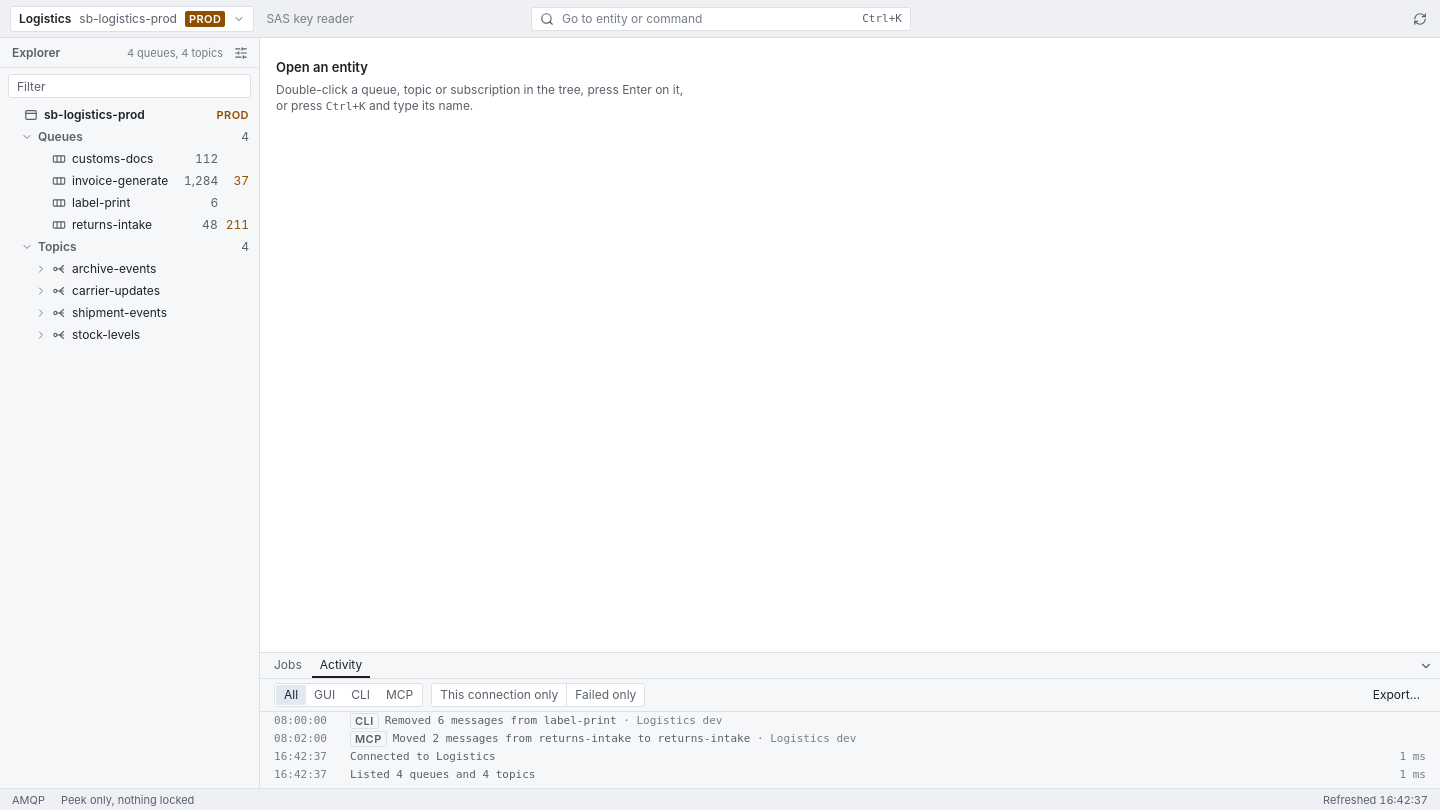
Test: palette › echoes the query when nothing matches
Expected: the element named "Namespace" is shown, [21,107,249,342]
Type keys "{Control>}k{/Control}"
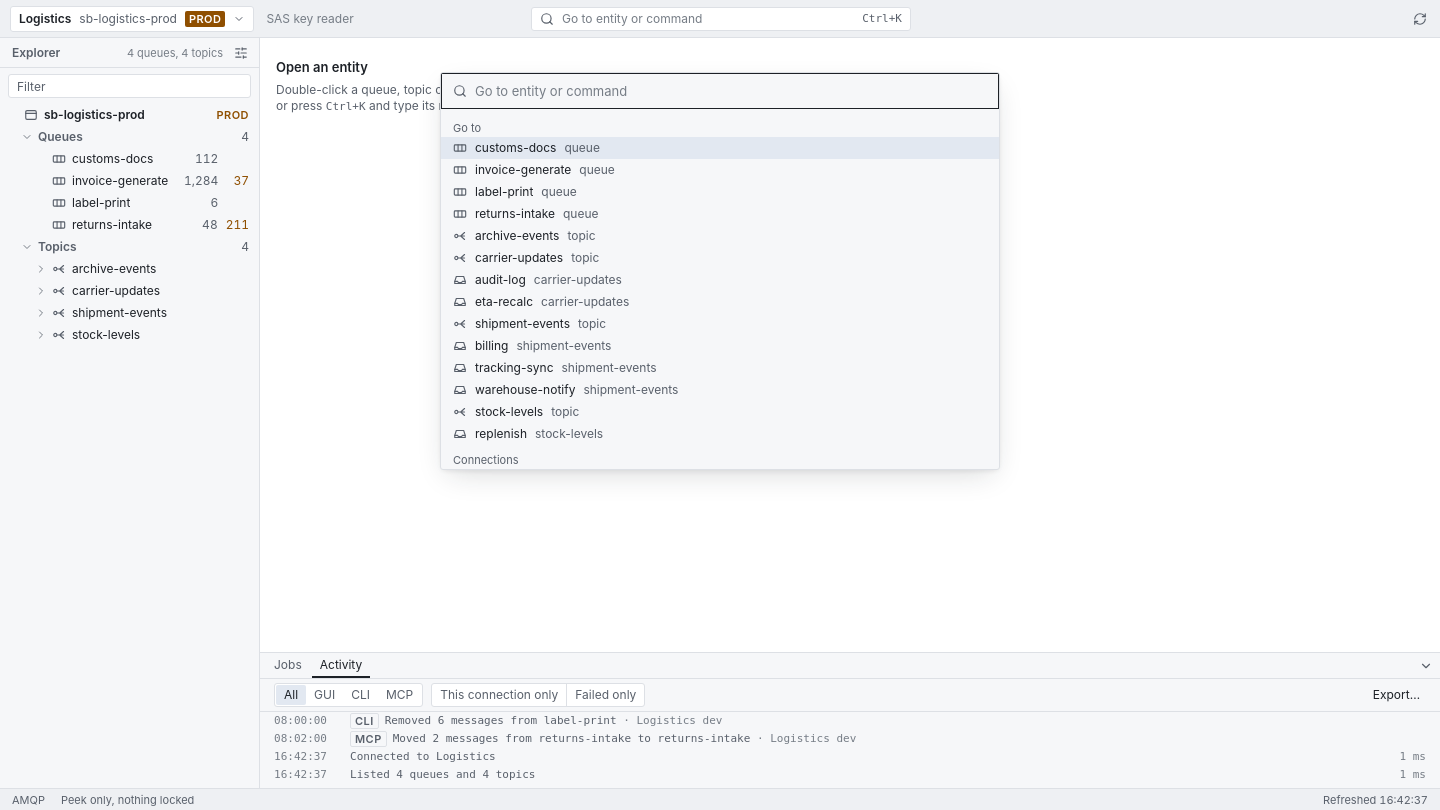
In the dropdown with placeholder "Go to entity or command": (731, 90) [475,73,987,108], type "zzzzqq"
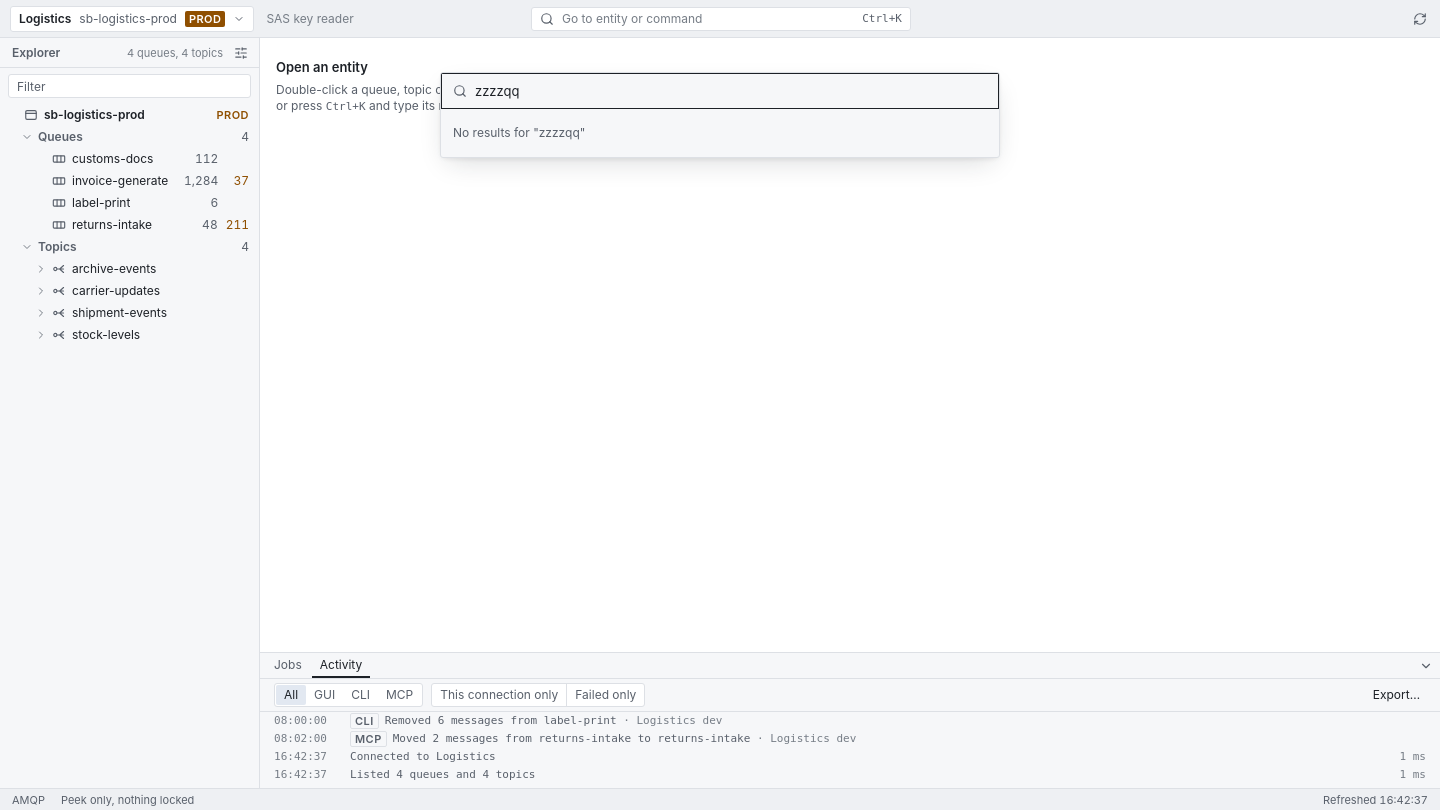
Now the text "No results for \"zzzzqq\"" is shown, box [453,125,585,140]
